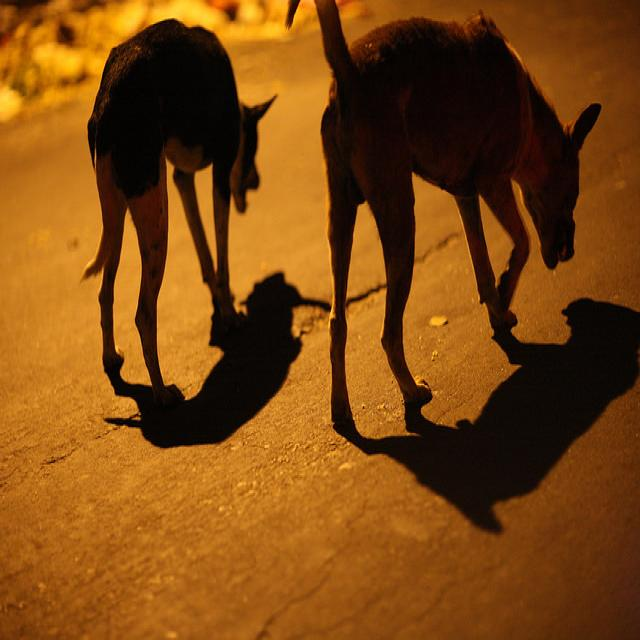Dog: (287, 0, 602, 420), (84, 15, 272, 406)
